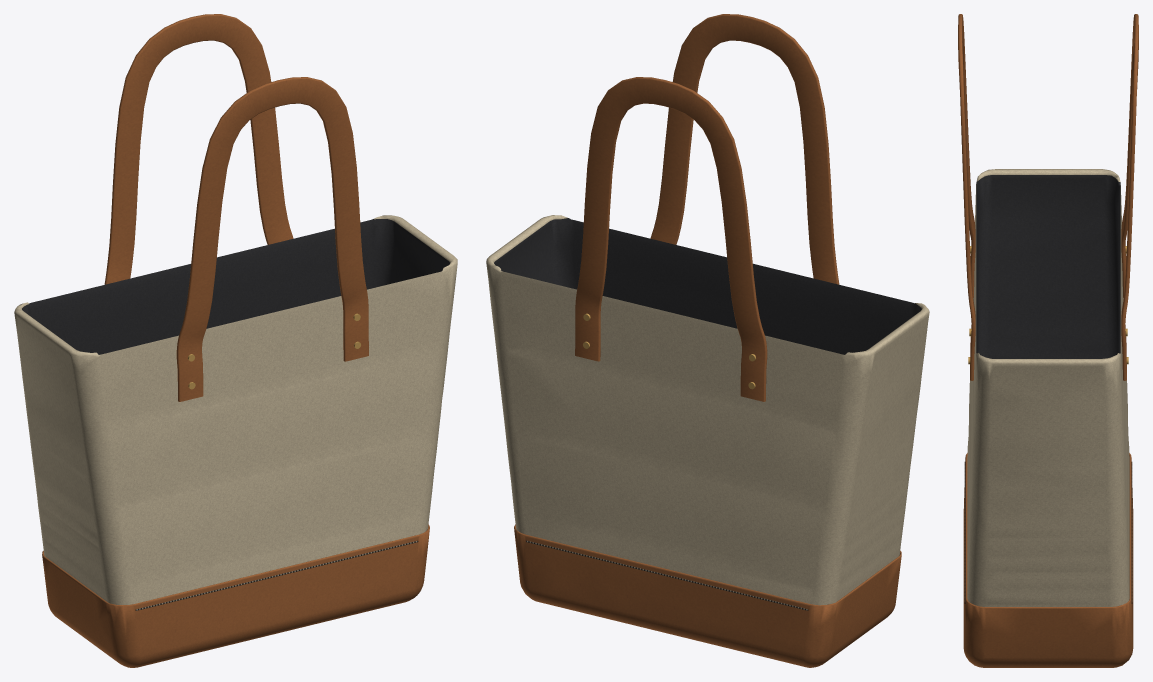
The model's file is tote-bag.glb.
3 views of the same model, side by side, from view 1: azimuth 30°, elevation 25°; view 2: azimuth 150°, elevation 25°; view 3: azimuth 270°, elevation 25° (orthographic). The views are drawn at different scales.
Parts seen in each view (by area): view 1: Tote body, Handles, rivets and stitching, Leather base band; view 2: Tote body, Handles, rivets and stitching, Leather base band; view 3: Tote body, Leather base band, Handles, rivets and stitching.
Part boxes in pixels (<box>): Tote body: <box>14,215,457,604</box>; Handles, rivets and stitching: <box>104,14,418,610</box>; Leather base band: <box>42,524,429,667</box>; Tote body: <box>486,215,929,605</box>; Handles, rivets and stitching: <box>526,14,839,610</box>; Leather base band: <box>514,524,901,667</box>; Tote body: <box>967,169,1129,606</box>; Leather base band: <box>963,453,1133,667</box>; Handles, rivets and stitching: <box>958,14,1138,603</box>.
Size of the model in its own units: 0.4111 by 0.5708 by 0.1626.
5 materials, 5 textured.
